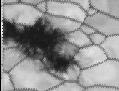good_void: (2, 10, 82, 75)
